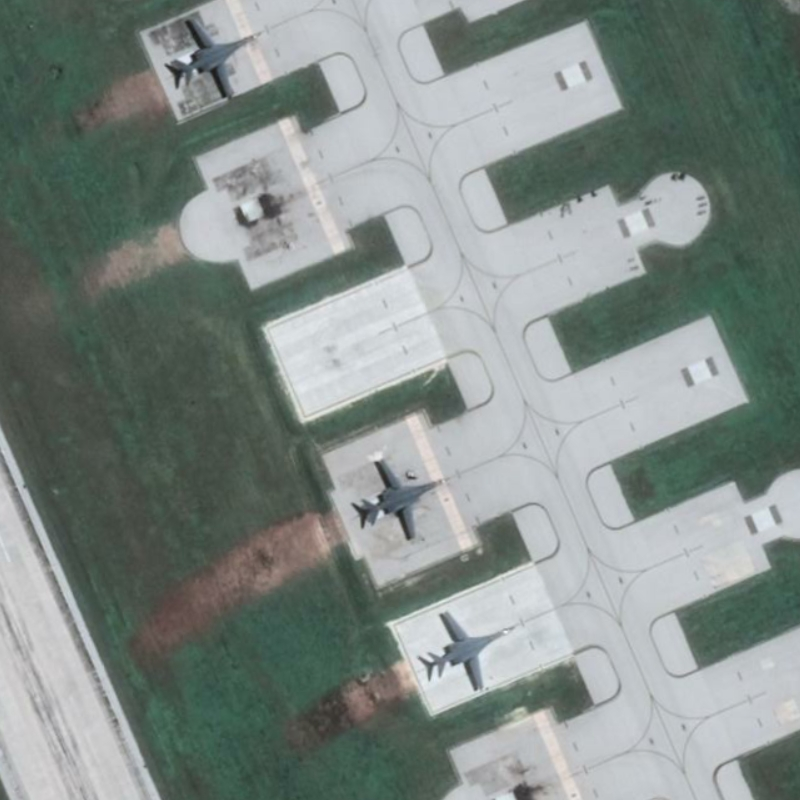A10: (167, 15, 264, 104), (358, 457, 454, 544), (425, 609, 519, 692)
